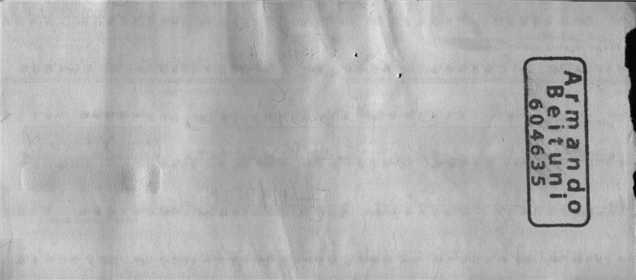stamp: (522, 55, 592, 230)
